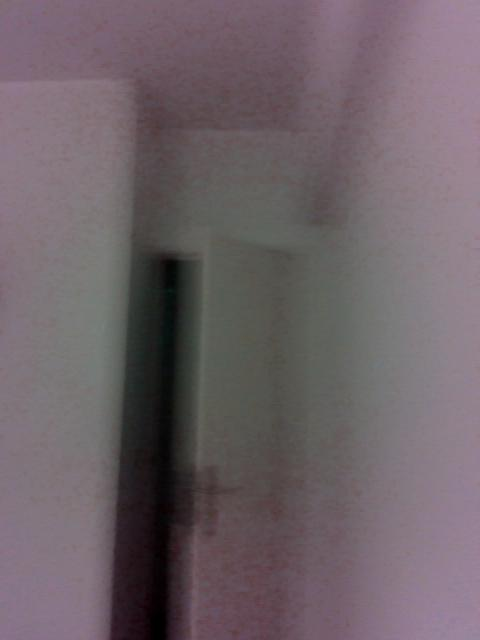semi_door: (109, 225, 304, 639)
